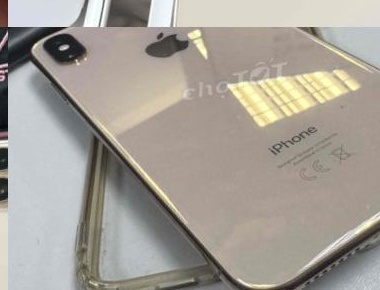scratch: (353, 194, 380, 218), (369, 158, 380, 183)
